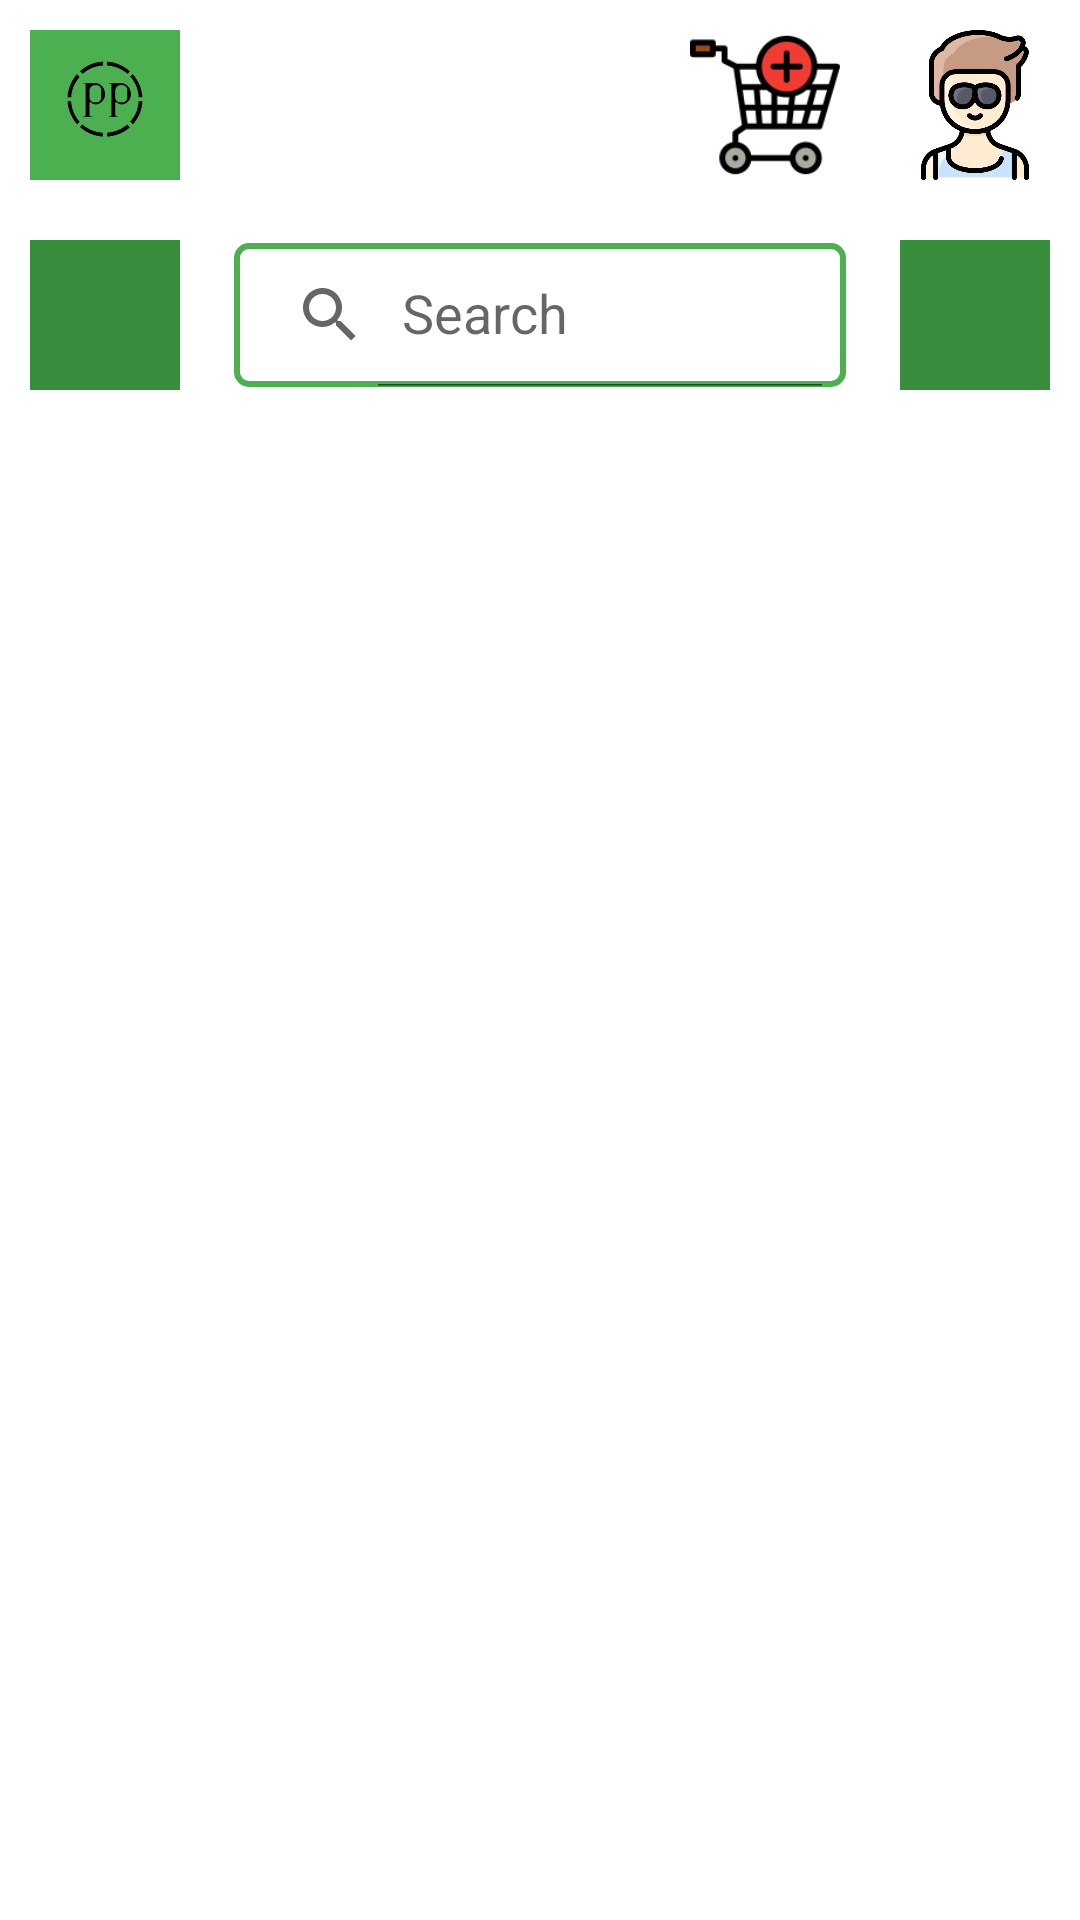

Locate icon controls on the screen. Image size 1080x1920, boxes as [x1, y1, x2, y2].
cart: [690, 35, 840, 175]
profilehome: [921, 30, 1029, 180]
